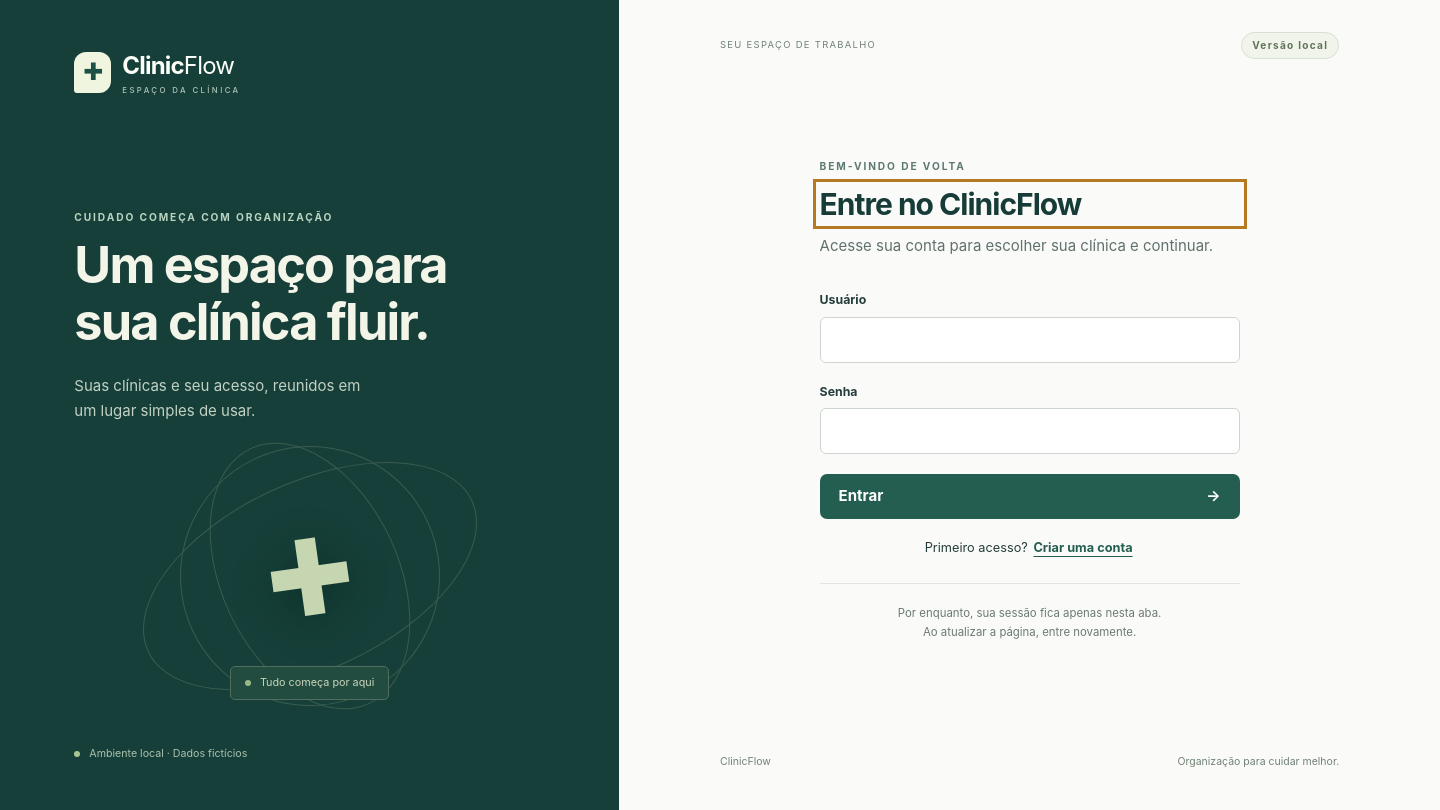
Test case: concurrent clinic snapshots › merges a completed creation into a list refresh without losing existing clinics
Type "review_user" into the field labelled "Usuário".
click(1030, 340); type("review_user")  # box [820,317,1240,363]
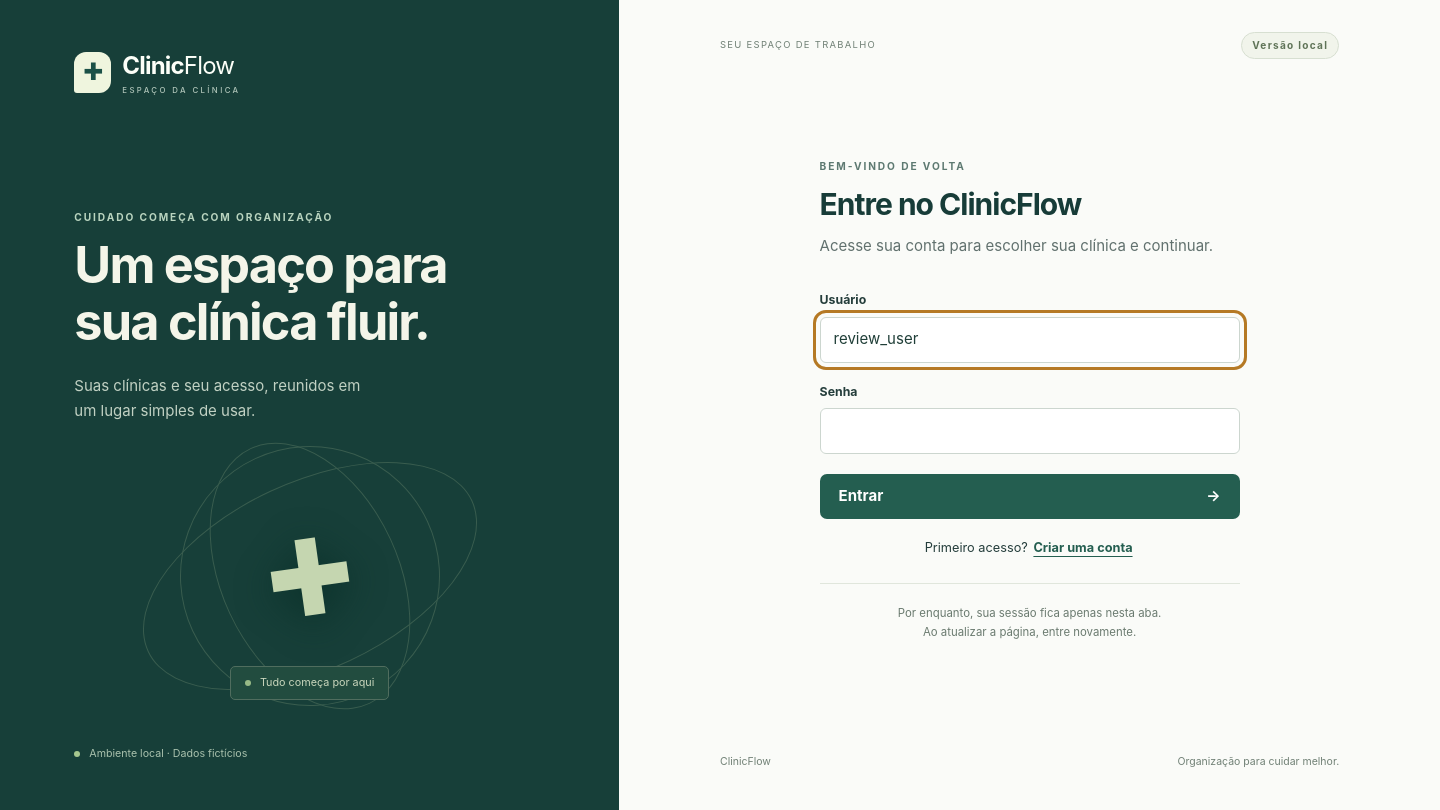
Type "Synthetic-review-password-846!" into the password field labelled "Senha".
click(1030, 431); type("Synthetic-review-password-846!")  # box [820,408,1240,454]
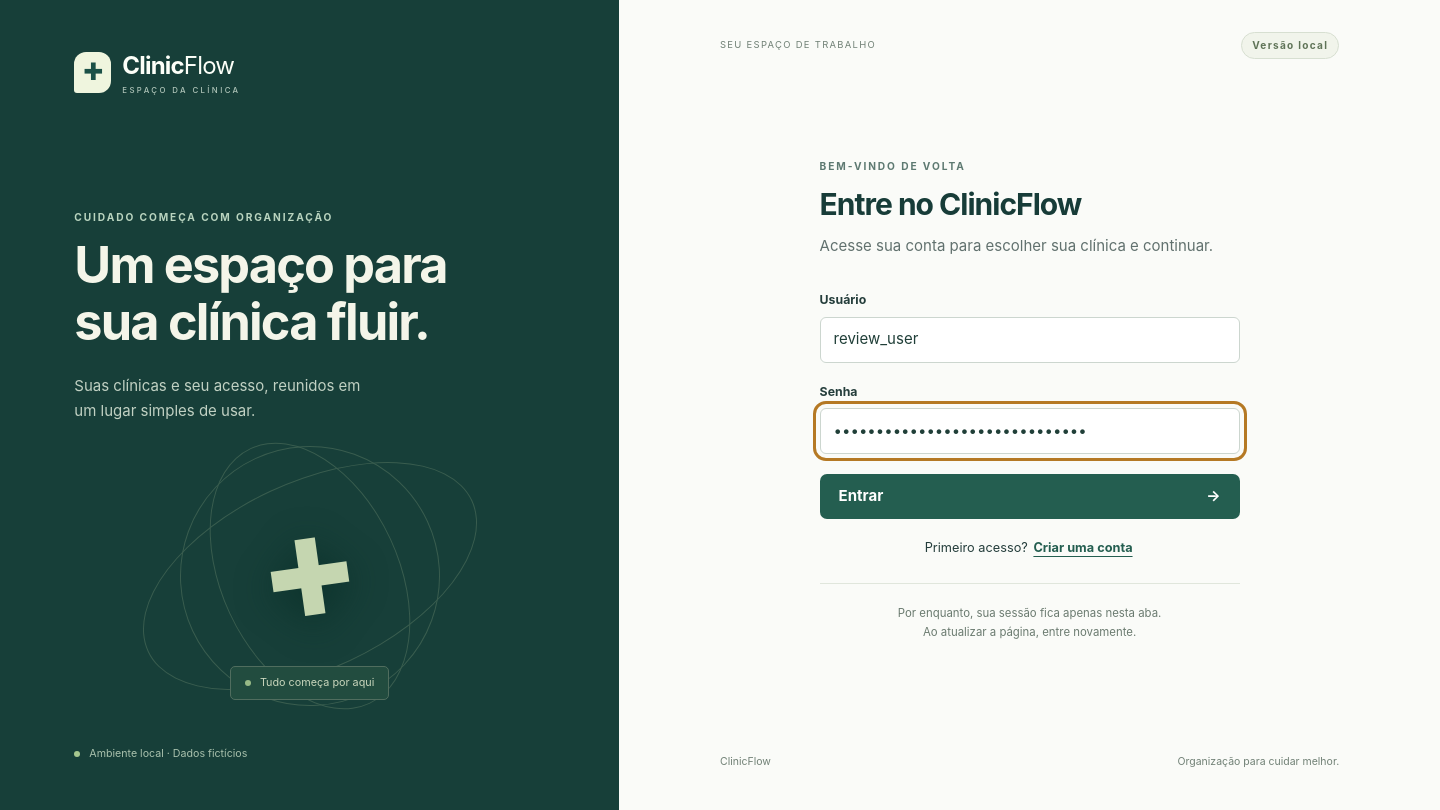
Click the button "Entrar →".
click(861, 496)  # box [820,474,1240,519]
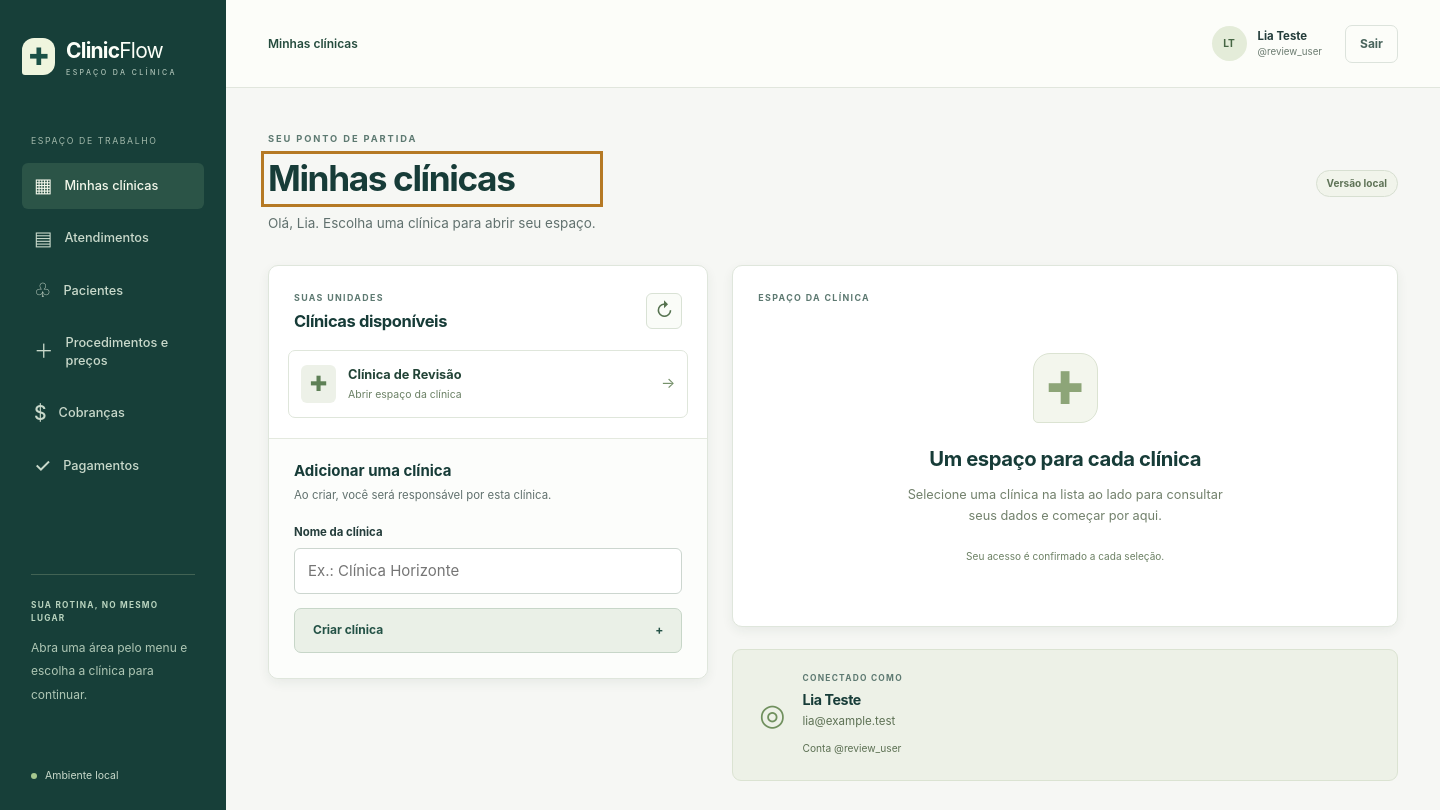
expect the link "✚ Clínica de Revisão Abrir espaço da clínica →" is shown: met, box [288,350,688,418]
Type "Clínica Nova" into the field labelled "Nome da clínica".
click(488, 571); type("Clínica Nova")  # box [294,548,682,594]
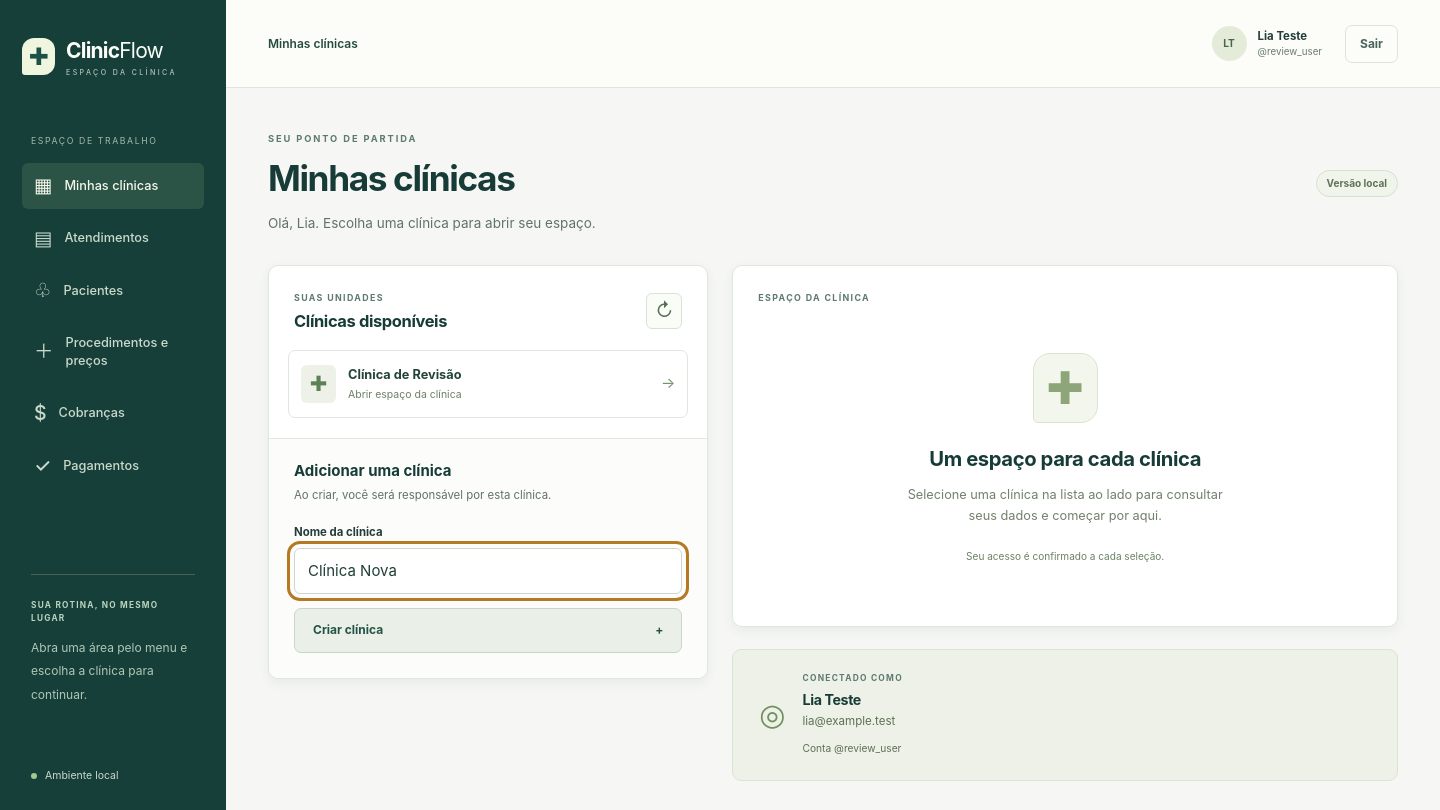
Click the button "Criar clínica +".
click(348, 630)  # box [294,608,682,653]
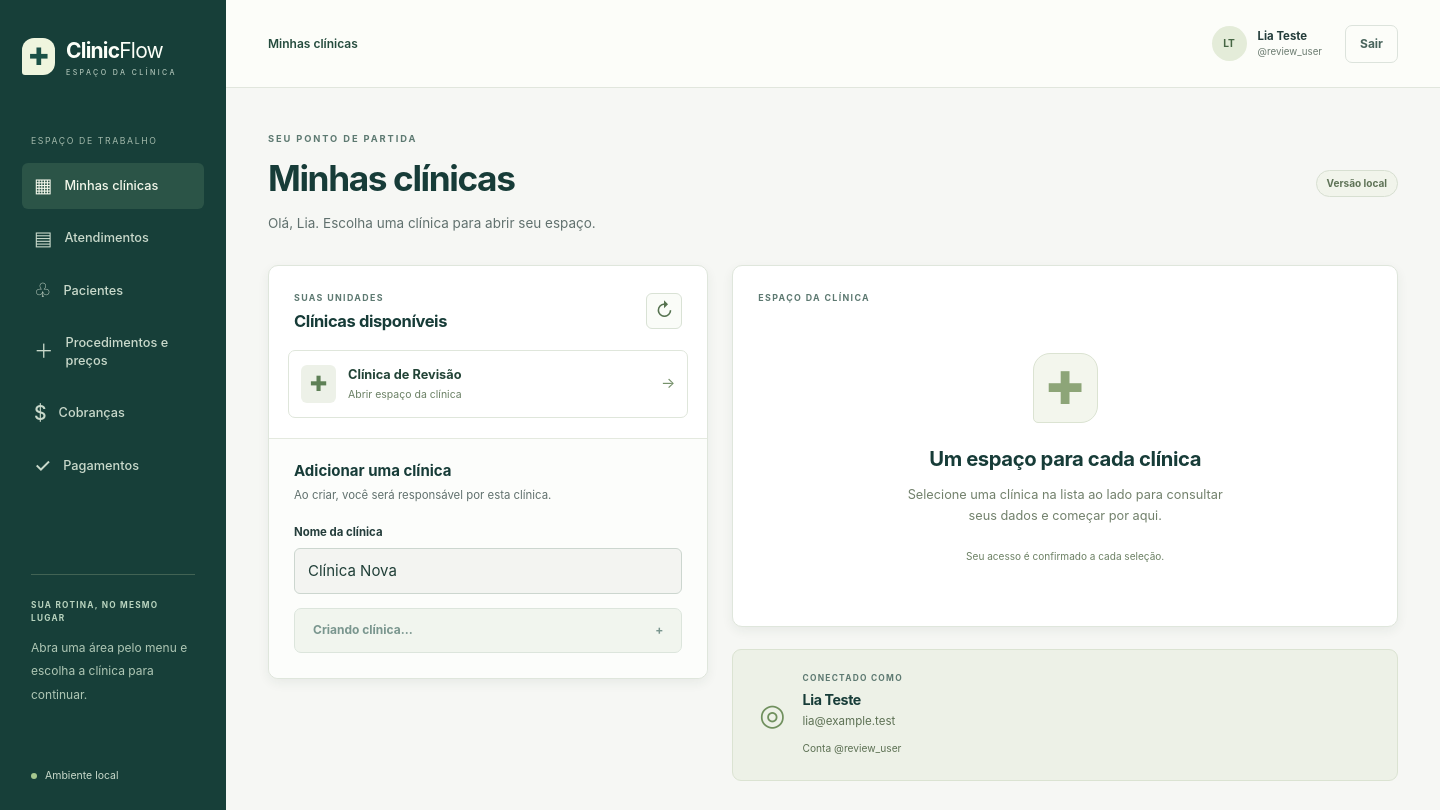
Click the button named "Atualizar lista de clínicas".
click(664, 311)  # box [646,293,682,329]
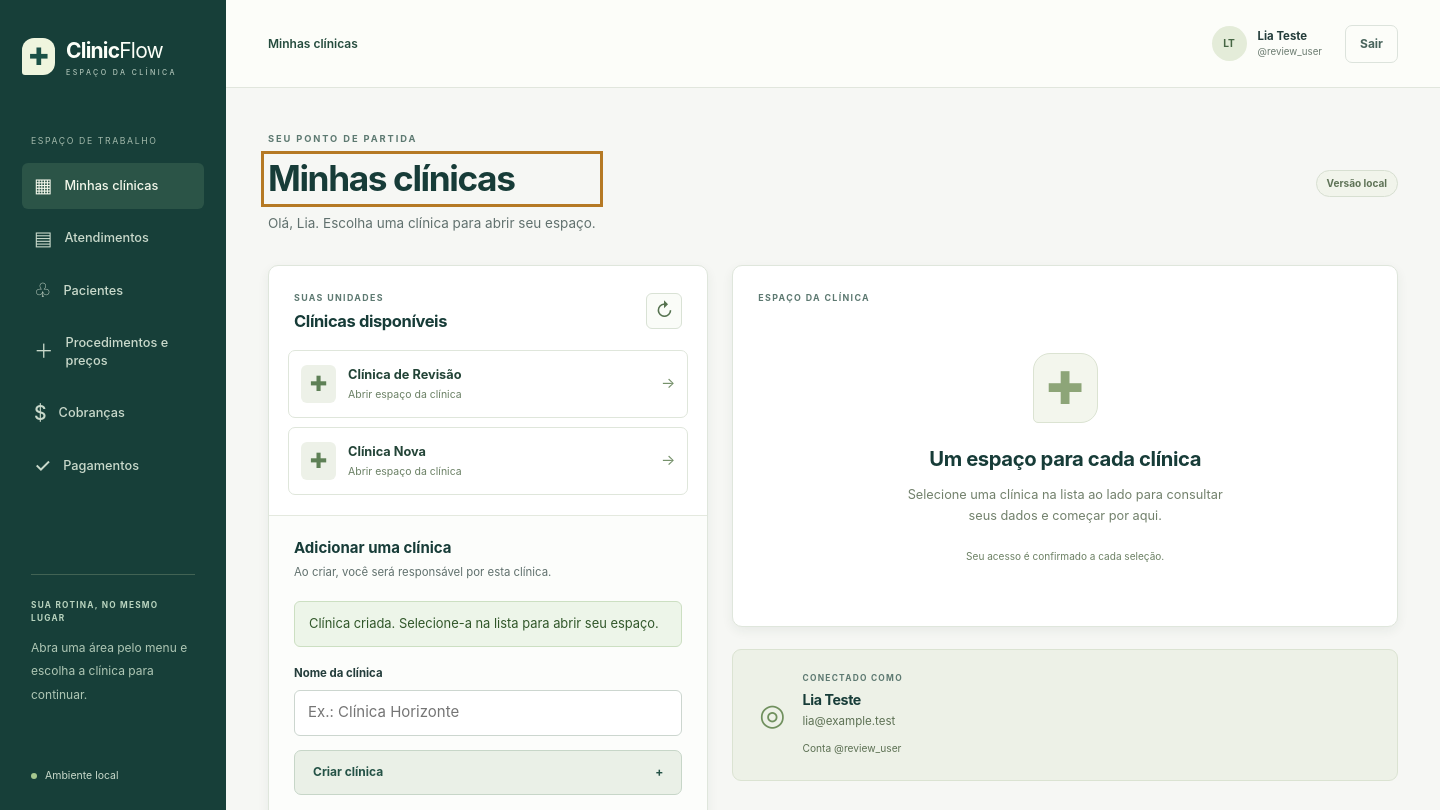
expect the link "✚ Clínica de Revisão Abrir espaço da clínica →" is shown: met, box [288,350,688,418]
expect the text "Clínica criada. Selecione-a na lista para abrir seu espaço." is shown: met, box [294,601,682,647]
expect the link "✚ Clínica Nova Abrir espaço da clínica →" is shown: met, box [288,427,688,495]
